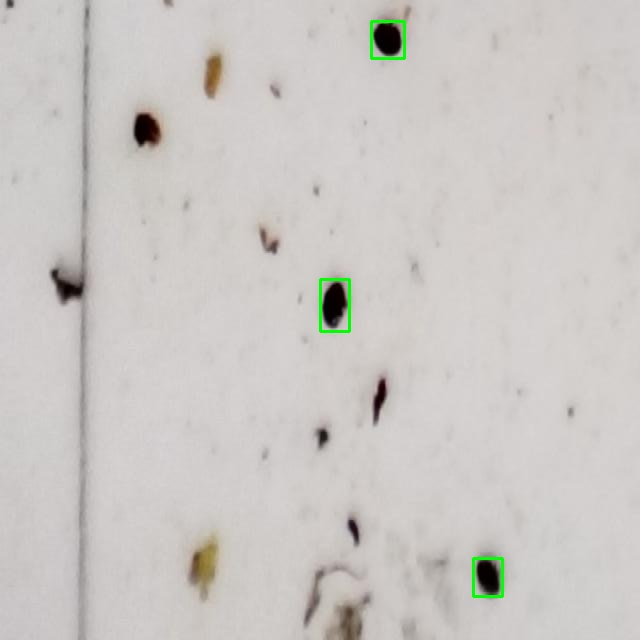varroa: (320, 279, 349, 331), (371, 21, 404, 58), (473, 558, 502, 596)
